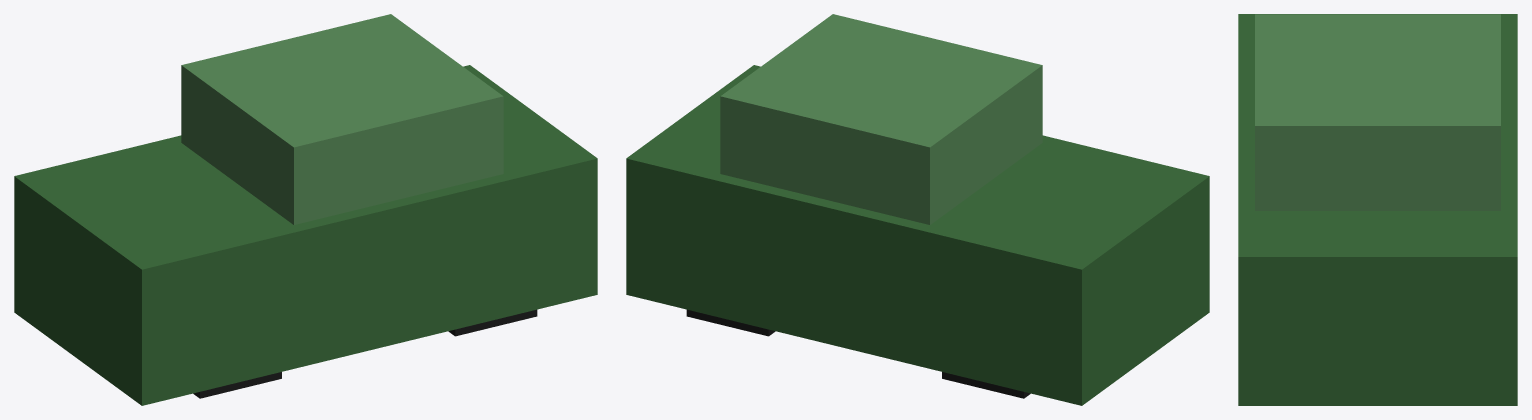
The model's file is polaris.dae.
3 views of the same model, side by side, from view 1: azimuth 30°, elevation 25°; view 2: azimuth 150°, elevation 25°; view 3: azimuth 270°, elevation 25° (orthographic). The views are drawn at different scales.
Parts seen in each view (by area): view 1: body, cabin, wheel_fr, wheel_rr; view 2: body, cabin, wheel_fl, wheel_rl; view 3: body, cabin.
Boxes of the visible parts, x1,y1,x2,y2 form: body: (14, 65, 597, 405); cabin: (181, 14, 503, 224); wheel_fr: (448, 309, 537, 336); wheel_rr: (193, 372, 281, 398); body: (626, 65, 1209, 405); cabin: (720, 14, 1042, 224); wheel_fl: (686, 309, 775, 336); wheel_rl: (942, 372, 1030, 398); body: (1238, 14, 1517, 405); cabin: (1255, 14, 1500, 210).
Size of the model in its own units: 3.5 by 1.7 by 1.63.
